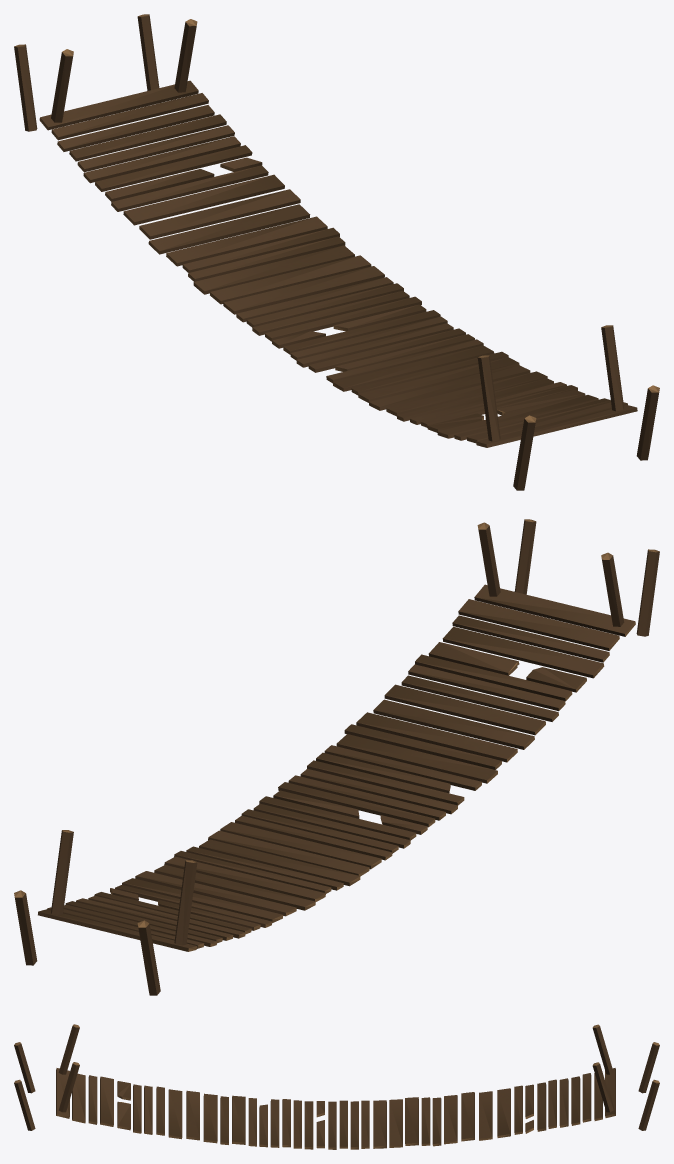
Rendered from Bridge_1_Lod1.fbx.
The picture shows the model from 3 angles, top to bottom: view 1: azimuth 30°, elevation 25°; view 2: azimuth 150°, elevation 25°; view 3: azimuth 270°, elevation 25°; orthographic projection. The views are drawn at different scales.
Parts seen in each view (by area): view 1: polySurface455; view 2: polySurface455; view 3: polySurface455.
Part boxes in pixels (left/top/right/bottom): polySurface455: left=14, top=14, right=659, bottom=490; polySurface455: left=14, top=519, right=659, bottom=995; polySurface455: left=14, top=1024, right=659, bottom=1149.
Size of the model in its own units: 419 by 333 by 2377.
Materials: 1 (1 with a texture image).
